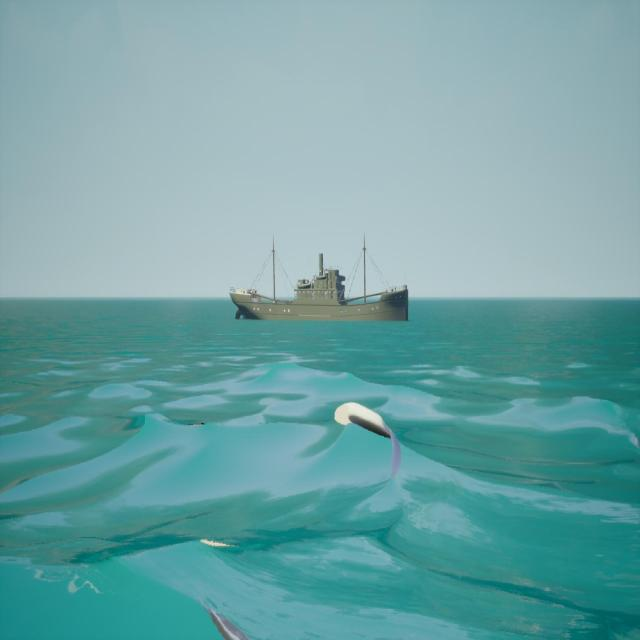fishing ship: (229, 232, 410, 324)
